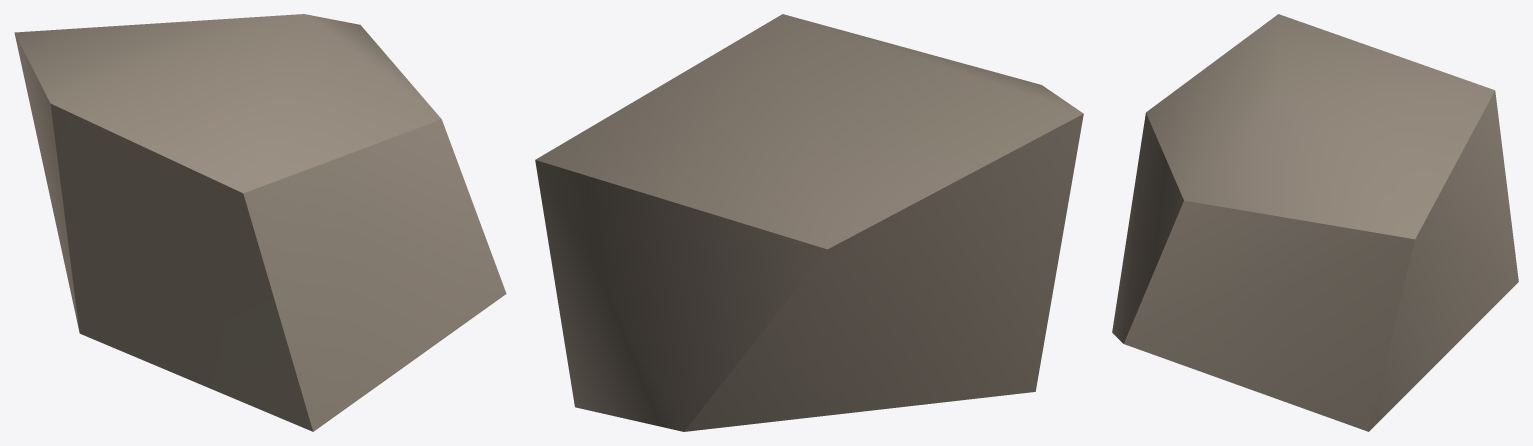
The model's file is FX_stone_B.FBX.
3 views of the same model, side by side, from view 1: azimuth 30°, elevation 25°; view 2: azimuth 150°, elevation 25°; view 3: azimuth 270°, elevation 25° (orthographic). The views are drawn at different scales.
Parts seen in each view (by area): view 1: FX_stone_B; view 2: FX_stone_B; view 3: FX_stone_B.
Boxes of the visible parts, box(x1,y1,x2,y2) form: FX_stone_B: box(14, 14, 506, 431); FX_stone_B: box(535, 14, 1083, 431); FX_stone_B: box(1112, 14, 1518, 431).
Size of the model in its own units: 24.78 by 20.12 by 26.42.
1 material, 1 textured.
